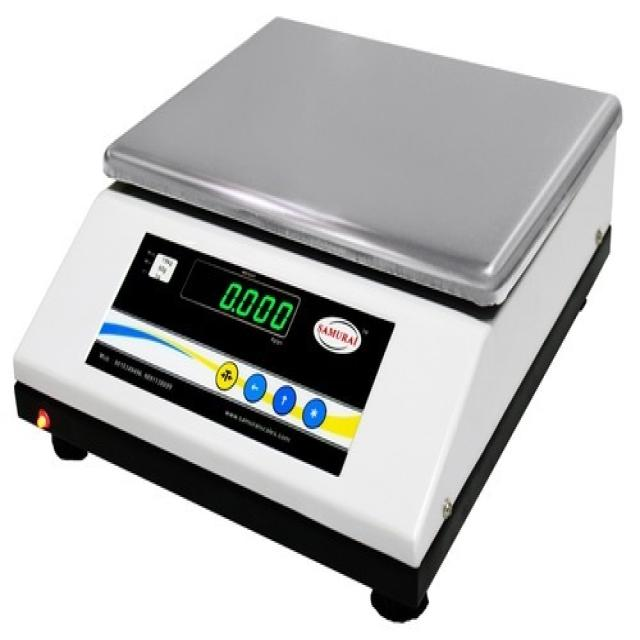.: (228, 303, 236, 315)
0: (214, 275, 242, 309), (268, 299, 295, 331), (252, 292, 275, 324), (237, 287, 257, 316)
